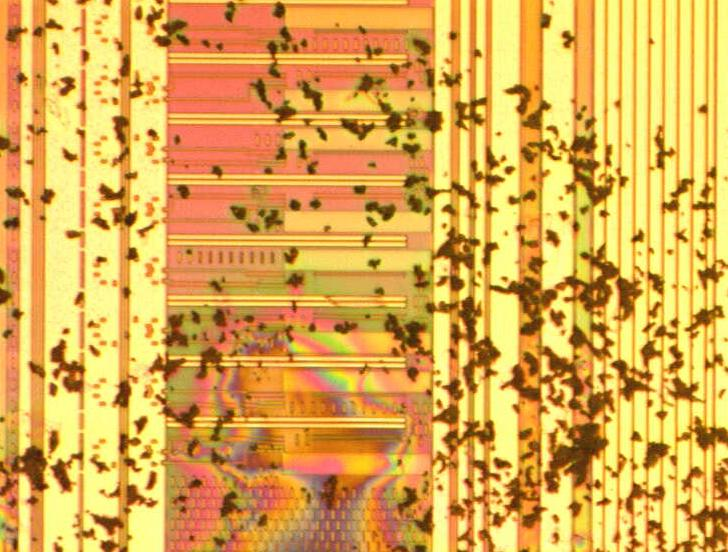PO CONTAMINATION: (1, 1, 728, 552)
